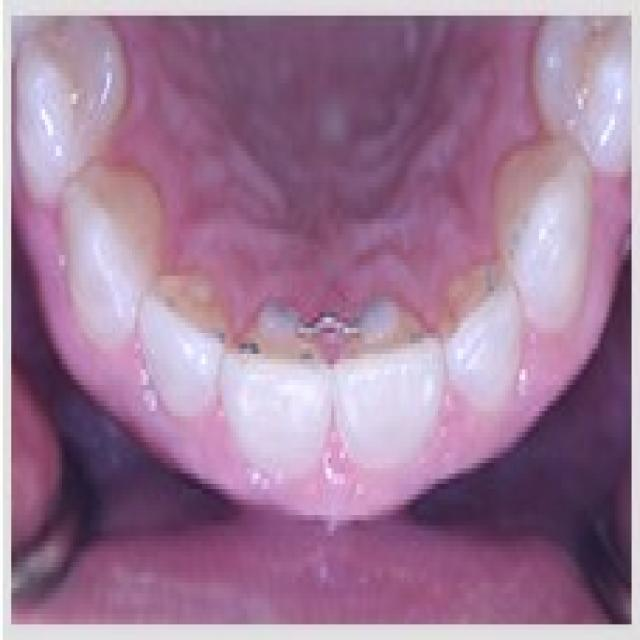tooth: (224, 271, 328, 489), (508, 114, 606, 333), (323, 323, 446, 489), (127, 234, 210, 448), (449, 271, 531, 416), (70, 156, 132, 323), (19, 36, 82, 188)
